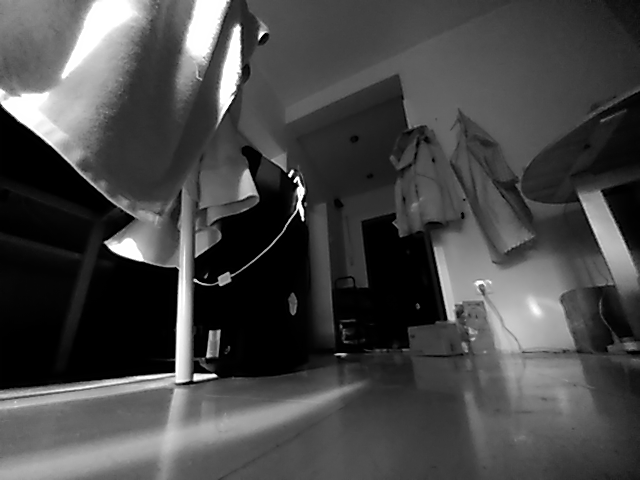wire: (485, 301, 522, 352)
